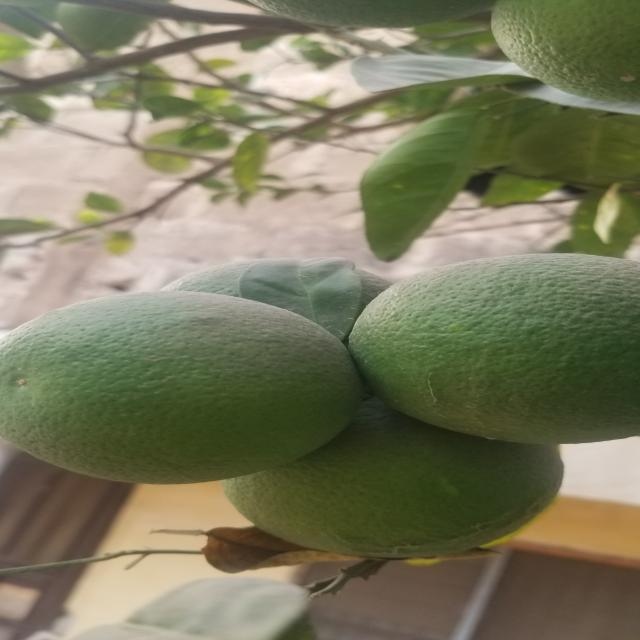Unripe: (0, 284, 369, 487), (366, 240, 634, 457), (225, 424, 539, 560), (154, 241, 398, 327), (483, 0, 640, 121), (245, 0, 473, 29)
